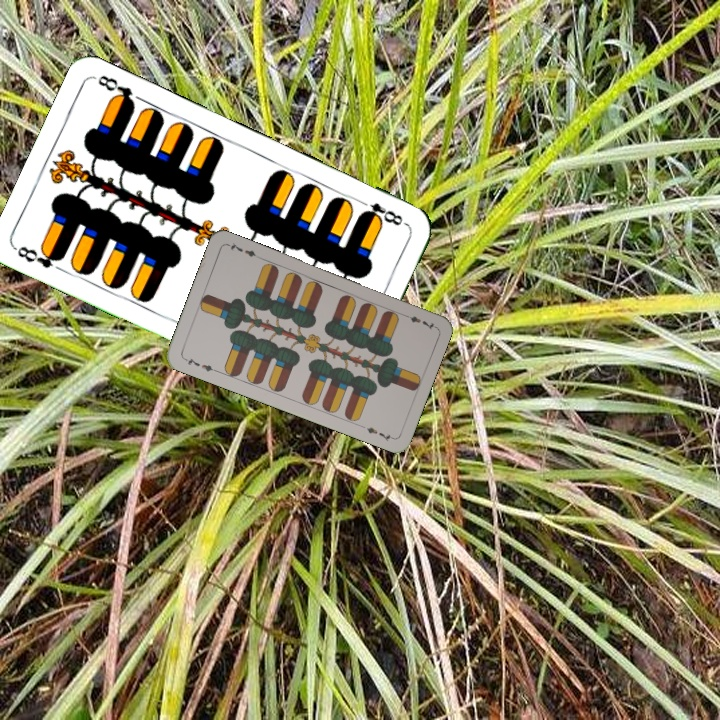E7: (398, 309, 437, 332), (180, 353, 219, 375)
E8: (354, 195, 409, 229), (12, 242, 66, 271)
